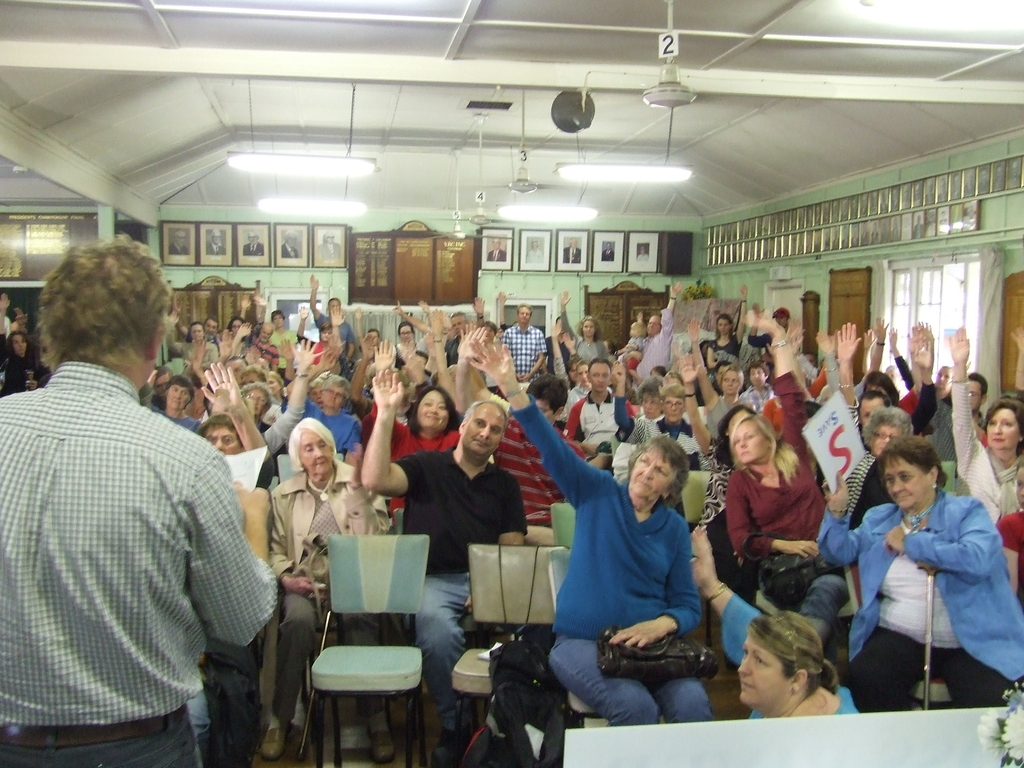Chair: (285, 543, 431, 768), (445, 541, 570, 767), (547, 543, 657, 730), (838, 561, 953, 709), (677, 468, 712, 648), (266, 452, 345, 491), (551, 499, 575, 552), (941, 461, 956, 493)
